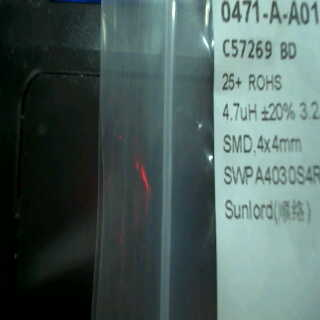4.7uH: (215, 99, 264, 125)
